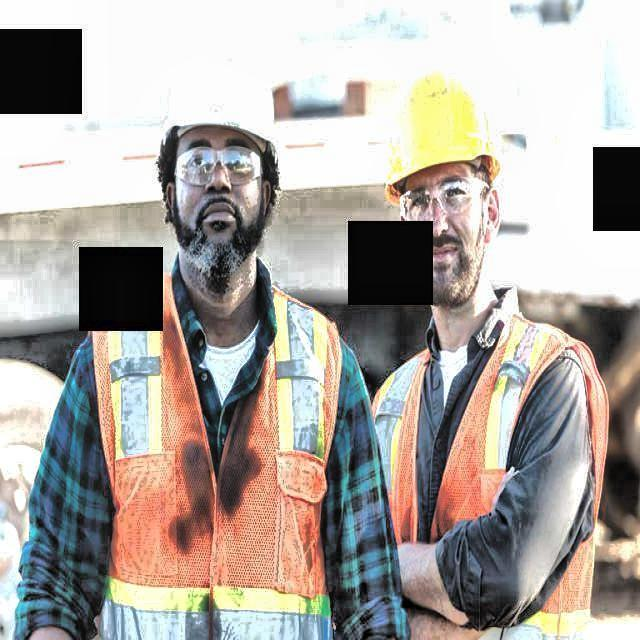safety_helmet: (159, 34, 284, 170), (384, 66, 502, 206)
safety_jacket: (91, 273, 342, 640), (373, 314, 612, 640)
